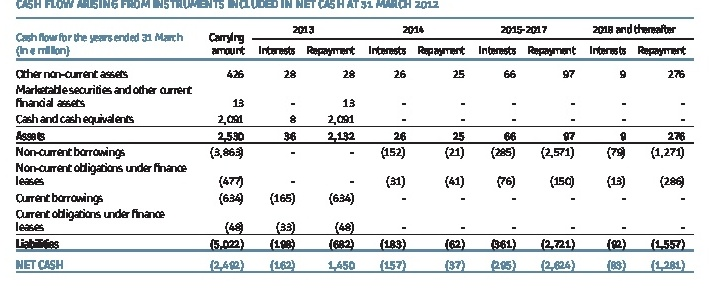table: (0, 0, 713, 292)
